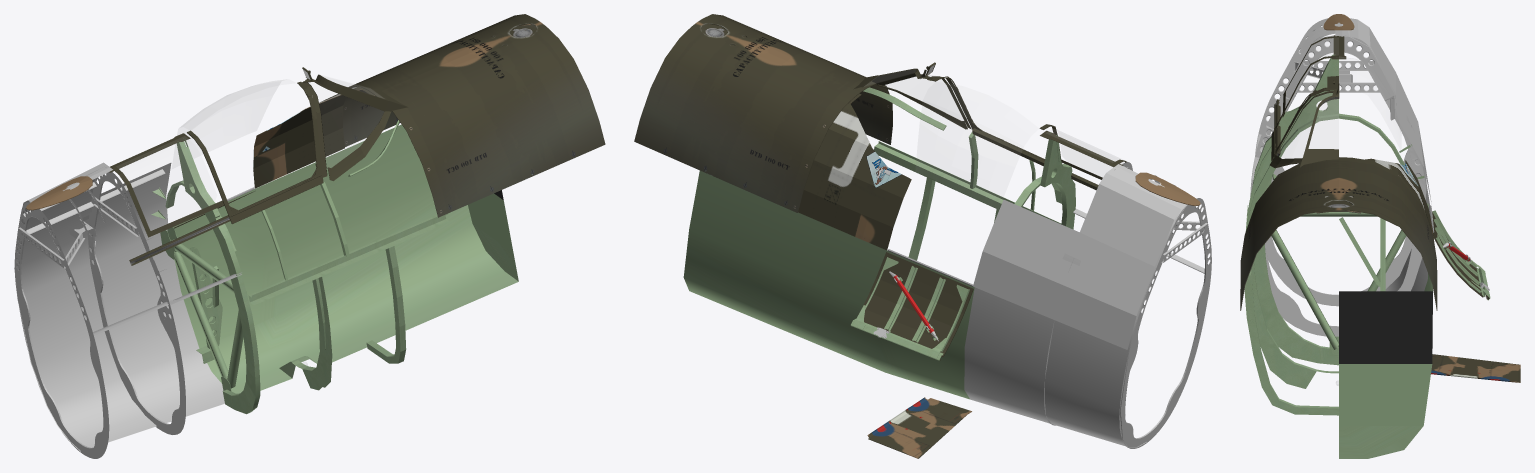
3 renders of one model, left to right at view 1: azimuth 30°, elevation 25°; view 2: azimuth 150°, elevation 25°; view 3: azimuth 270°, elevation 25°, orthographic. The views are drawn at different scales.
Visible parts, largest first — view 1: base_low_poluy; view 2: base_low_poluy; view 3: base_low_poluy.
Boxes of the visible parts, x1,y1,x2,y2 form: base_low_poluy: [14, 14, 605, 458]; base_low_poluy: [634, 14, 1211, 458]; base_low_poluy: [1240, 14, 1520, 458].
Size of the model in its own units: 280 by 167 by 124.
